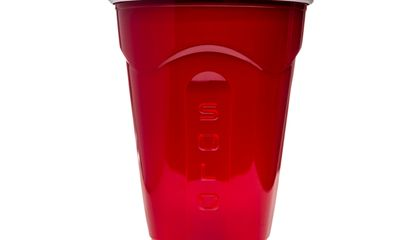plastic_glass: (104, 1, 315, 240)
